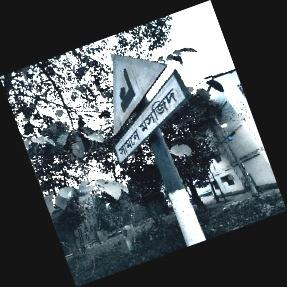Mosque in front: (112, 50, 193, 163)
